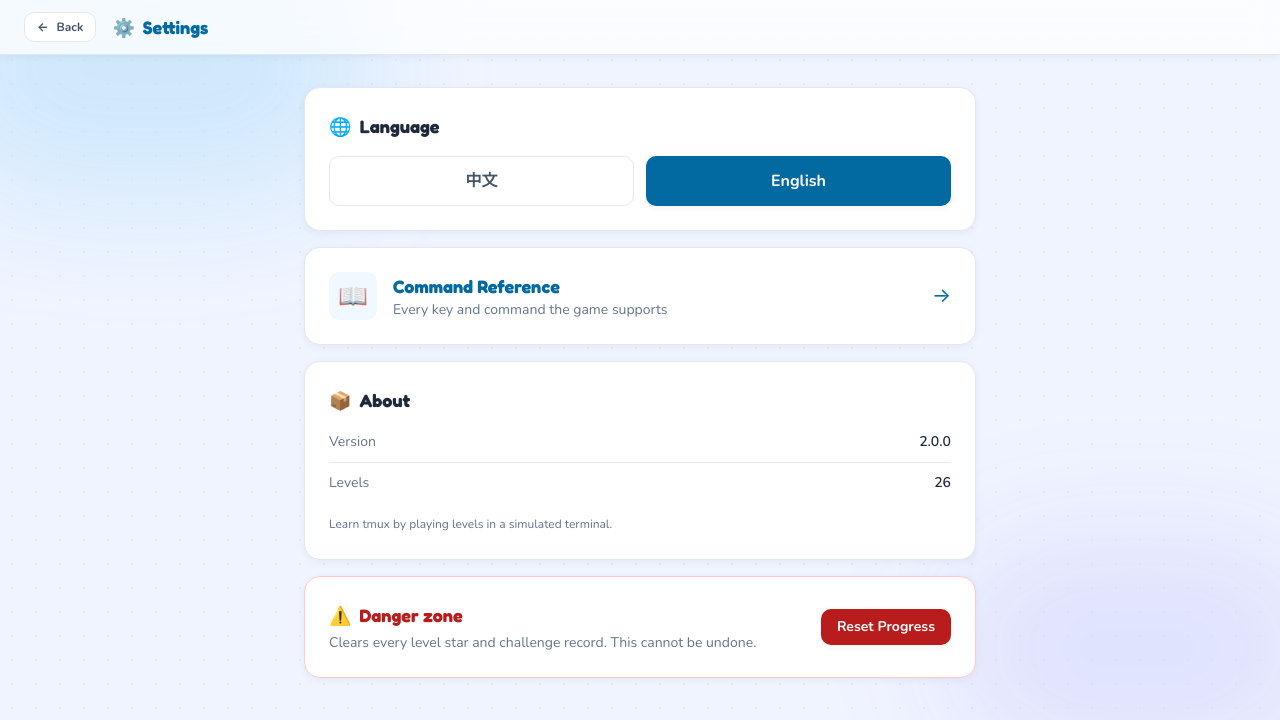
Test: SettingsScreen › switches the language and remembers it
The width and height of the screenshot is (1280, 720).
Click the button "中文".
click(482, 181)  # box [329,156,634,206]
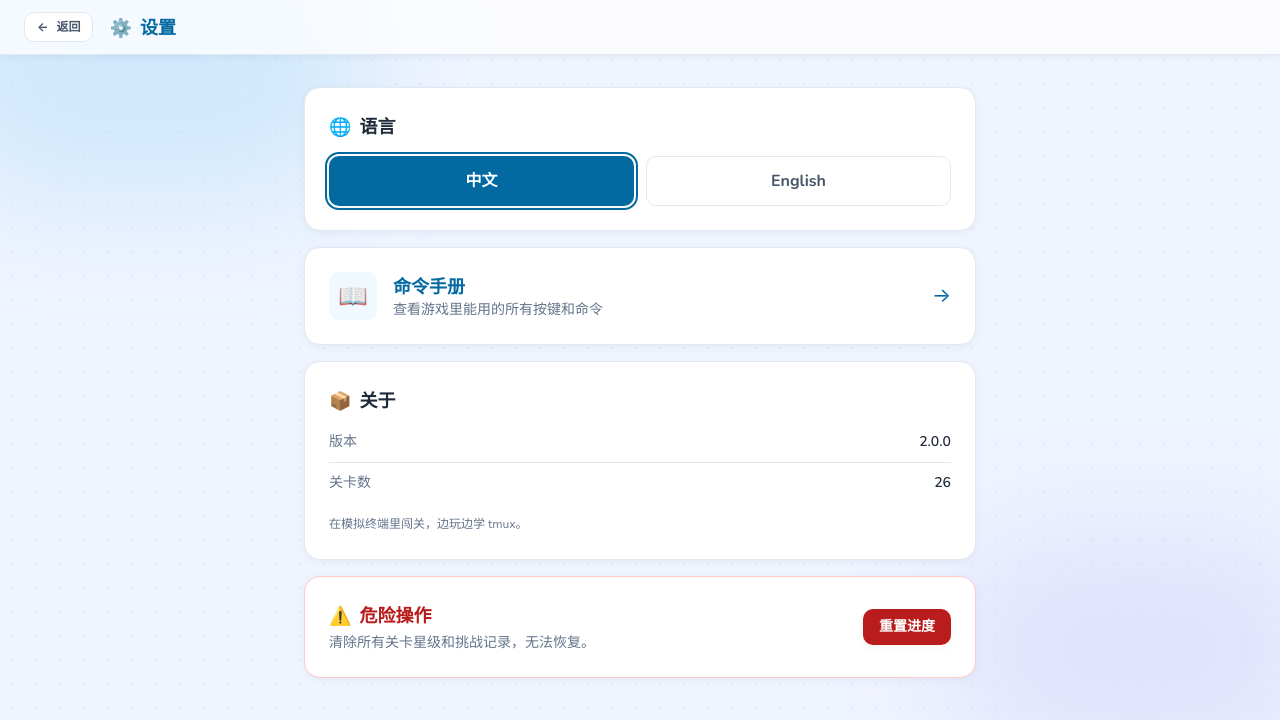
Check: the heading "⚙️设置" is shown, box [110,16,176,38]
